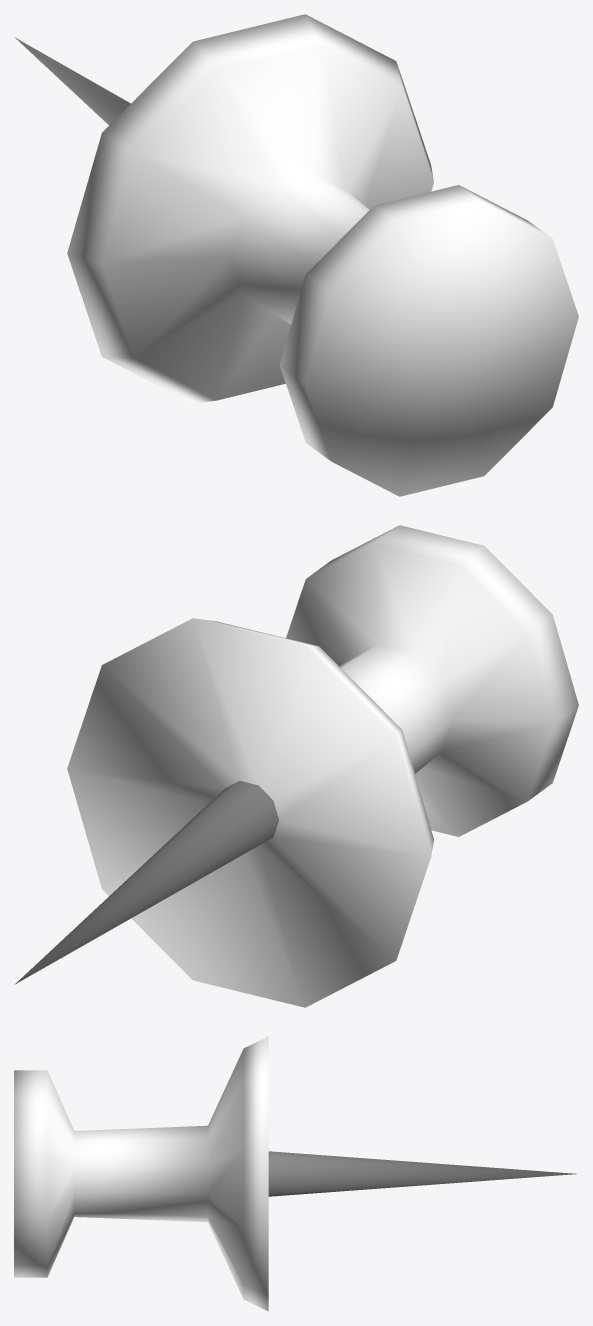
The model's file is thumbtack.fbx.
3 views of the same model, one above another, from view 1: azimuth 30°, elevation 25°; view 2: azimuth 150°, elevation 25°; view 3: azimuth 270°, elevation 25° (orthographic). The views are drawn at different scales.
Parts seen in each view (by area): view 1: Thumb, pin; view 2: Thumb, pin; view 3: Thumb, pin.
Boxes of the visible parts, x1,y1,x2,y2 form: Thumb: (67,14,578,496); pin: (14,37,130,125); Thumb: (67,525,578,1007); pin: (14,781,278,984); Thumb: (14,1036,268,1311); pin: (268,1151,576,1196).
Bounding box in the file's own units: 0.5313 × 0.5053 × 1.08.
